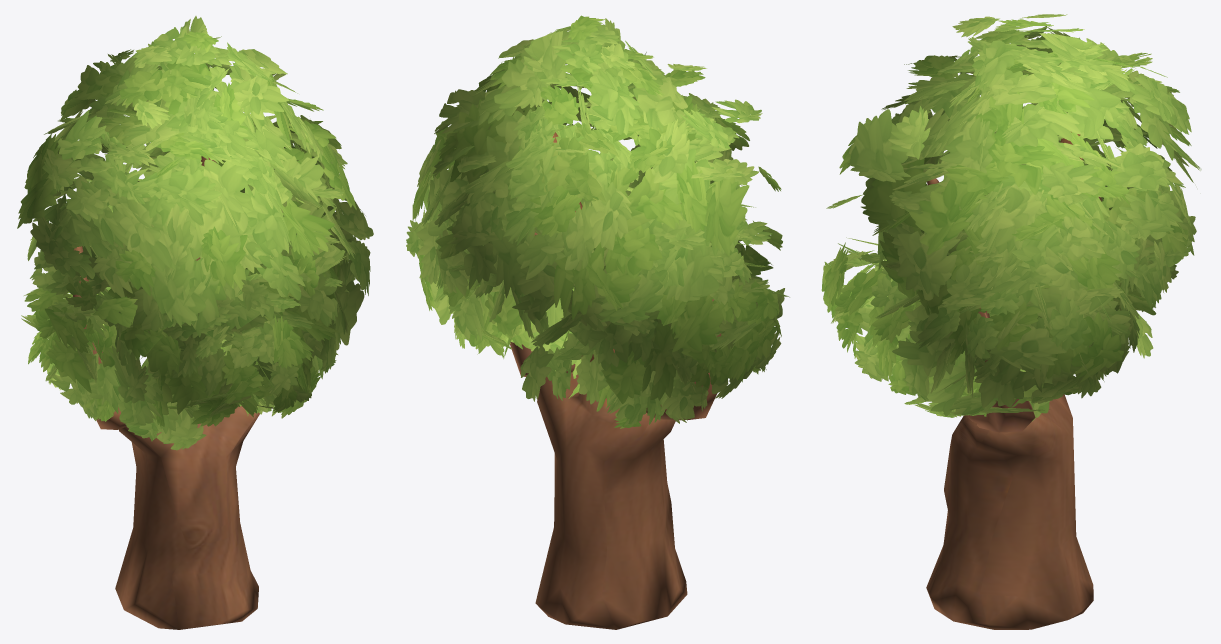
Rendered from WriteLoop_Tree_A_LOD1.glb.
3 renders of one model, left to right at view 1: azimuth 30°, elevation 25°; view 2: azimuth 150°, elevation 25°; view 3: azimuth 270°, elevation 25°, orthographic. The views are drawn at different scales.
Parts seen in each view (by area): view 1: Tree_Foliage, Tree_Wood; view 2: Tree_Foliage, Tree_Wood; view 3: Tree_Foliage, Tree_Wood.
Part boxes in pixels (<box>): Tree_Foliage: <box>17,16,373,450</box>; Tree_Wood: <box>73,156,259,629</box>; Tree_Foliage: <box>406,15,789,428</box>; Tree_Wood: <box>510,132,721,629</box>; Tree_Foliage: <box>821,14,1201,421</box>; Tree_Wood: <box>926,132,1101,629</box>.
Size of the model in its own units: 1.84 by 2.99 by 1.77.
Materials: 2 (2 with a texture image).
